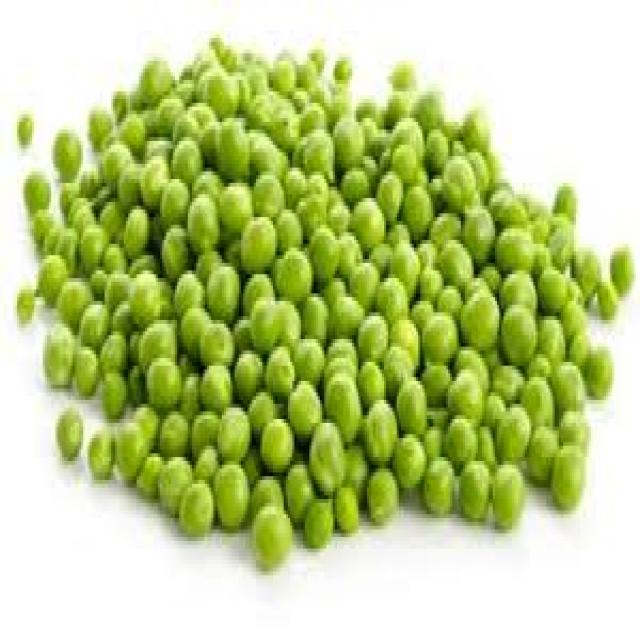organic waste: (58, 168, 495, 332), (98, 336, 585, 472), (87, 80, 348, 217), (307, 232, 497, 419), (380, 179, 499, 457), (179, 156, 333, 358), (486, 179, 584, 484), (218, 198, 312, 476), (77, 160, 181, 377), (348, 95, 486, 236), (177, 328, 265, 468), (179, 34, 267, 88), (307, 415, 344, 495), (269, 46, 322, 95), (248, 503, 290, 564), (211, 457, 248, 526), (486, 457, 520, 522), (175, 476, 211, 537), (239, 210, 275, 270), (214, 114, 248, 176), (456, 453, 488, 518), (550, 442, 582, 507), (525, 419, 559, 480), (282, 457, 312, 526), (392, 427, 424, 488), (578, 335, 610, 396), (384, 64, 414, 126), (218, 175, 252, 229), (362, 461, 394, 518), (341, 442, 369, 507), (113, 423, 147, 476), (422, 454, 452, 514), (198, 69, 237, 114), (34, 251, 66, 305), (42, 324, 72, 381), (570, 244, 600, 301), (276, 244, 310, 293), (556, 400, 586, 450), (301, 495, 333, 541), (248, 469, 280, 514), (51, 126, 79, 175), (85, 427, 113, 476), (53, 408, 81, 457), (275, 297, 301, 347), (295, 335, 322, 381), (331, 480, 354, 533), (73, 339, 96, 392), (21, 168, 49, 210), (55, 221, 79, 270), (134, 446, 164, 484), (299, 294, 326, 336), (143, 57, 171, 95), (326, 57, 350, 99), (608, 248, 634, 286), (596, 274, 614, 312), (15, 110, 32, 141), (28, 214, 49, 236), (15, 290, 32, 316), (42, 225, 58, 251), (60, 179, 77, 198)
